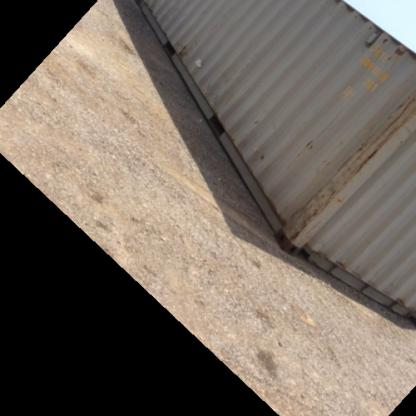Damage: (357, 84, 415, 176), (285, 170, 339, 239), (292, 128, 323, 158), (248, 144, 268, 168), (171, 32, 190, 53), (332, 258, 348, 271), (193, 56, 206, 68)
